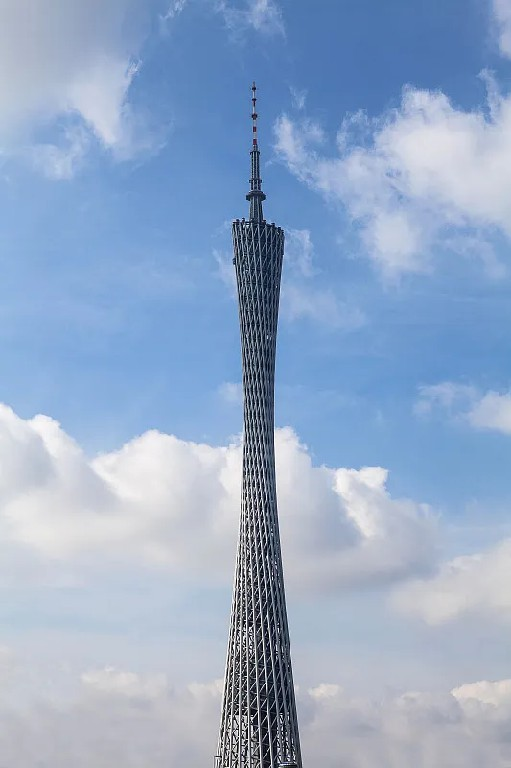Canton: (219, 78, 306, 768)
